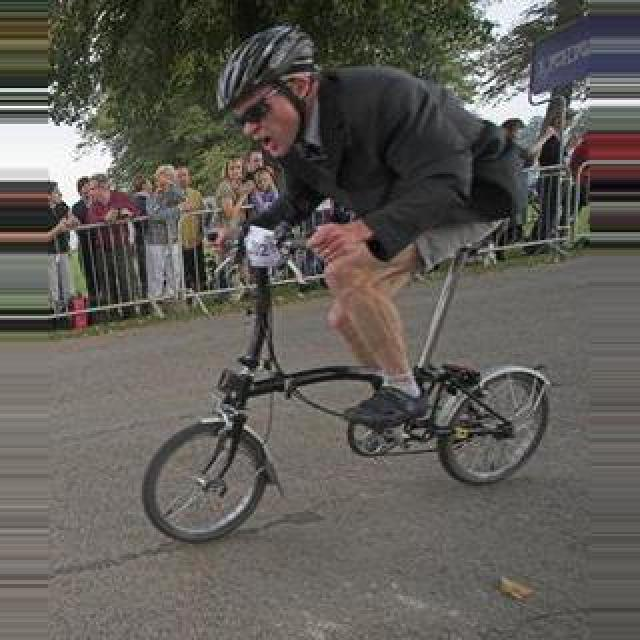MC-Bike: (202, 18, 544, 450), (76, 174, 144, 324), (234, 160, 292, 290), (208, 160, 250, 300), (146, 170, 184, 302), (174, 170, 206, 300)
Person: (136, 238, 554, 556)
